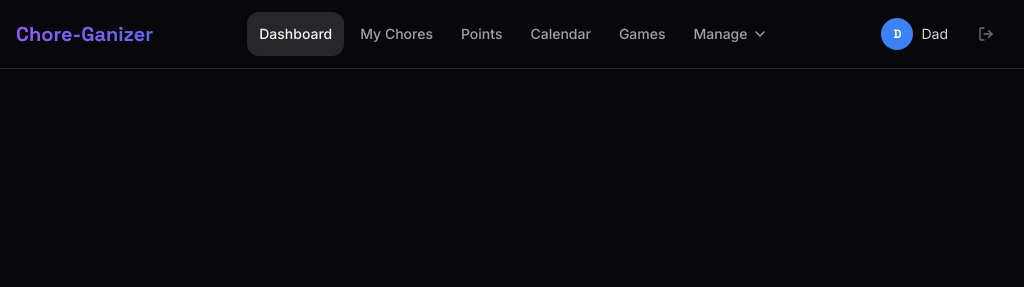
Test: TopNav › shows Manage dropdown for parents with admin links
Click the button "Manage" at (730, 34), box top-left (682, 12), bottom-right (780, 56)
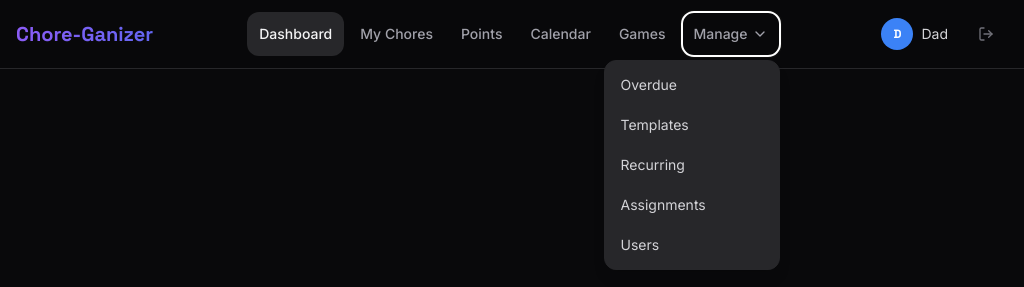
Expected: the number of links "Games" is 1, top-left (619, 25), bottom-right (666, 42)
Result: the link "Templates" is shown at top-left (620, 116), bottom-right (689, 133)
Result: the link "Users" is shown at top-left (620, 236), bottom-right (659, 253)
